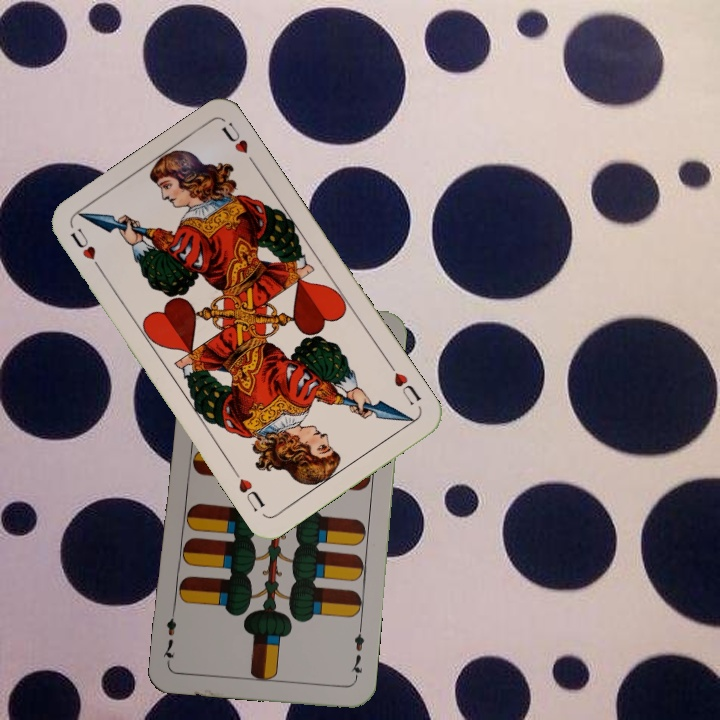E7: (347, 624, 367, 683)
HU: (66, 223, 106, 276), (384, 359, 424, 408)
